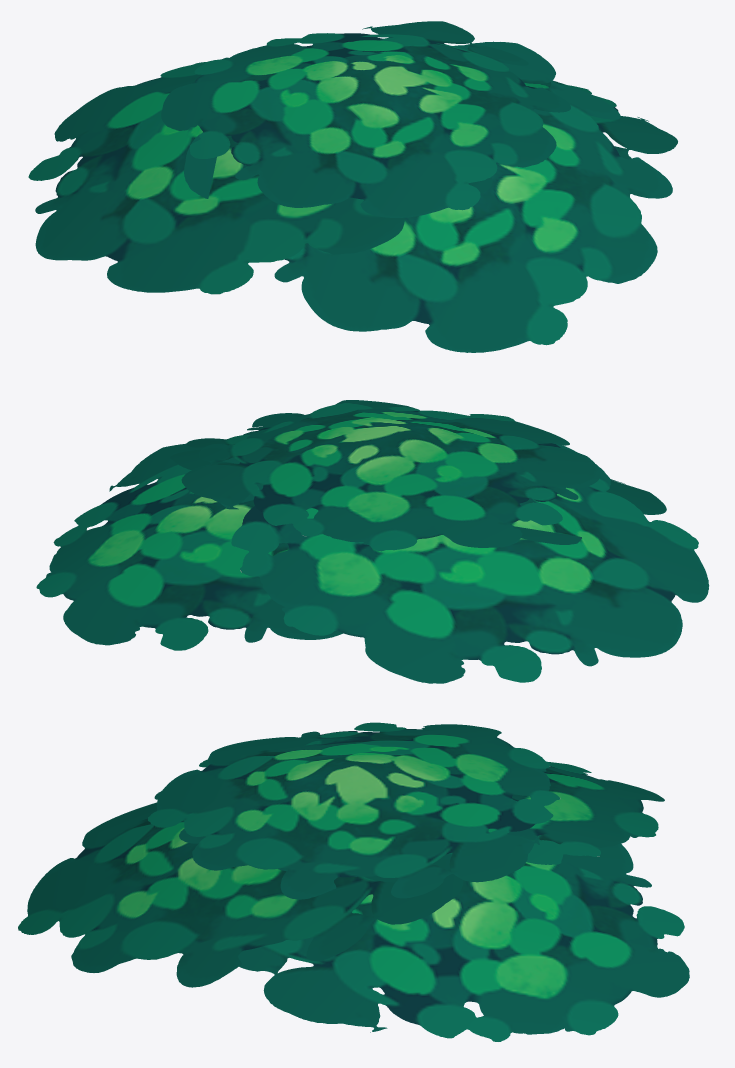
Rendered from SM_Bush4.fbx.
3 views of the same model, one above another, from view 1: azimuth 30°, elevation 25°; view 2: azimuth 150°, elevation 25°; view 3: azimuth 270°, elevation 25° (orthographic). The views are drawn at different scales.
Parts seen in each view (by area): view 1: bush6; view 2: bush6; view 3: bush6.
Boxes of the visible parts, x1=… form: bush6: x1=28, y1=21, x2=677, y2=352; bush6: x1=36, y1=400, x2=709, y2=683; bush6: x1=18, y1=722, x2=689, y2=1041.
Size of the model in its own units: 201 by 46.57 by 189.
1 material, 1 textured.
